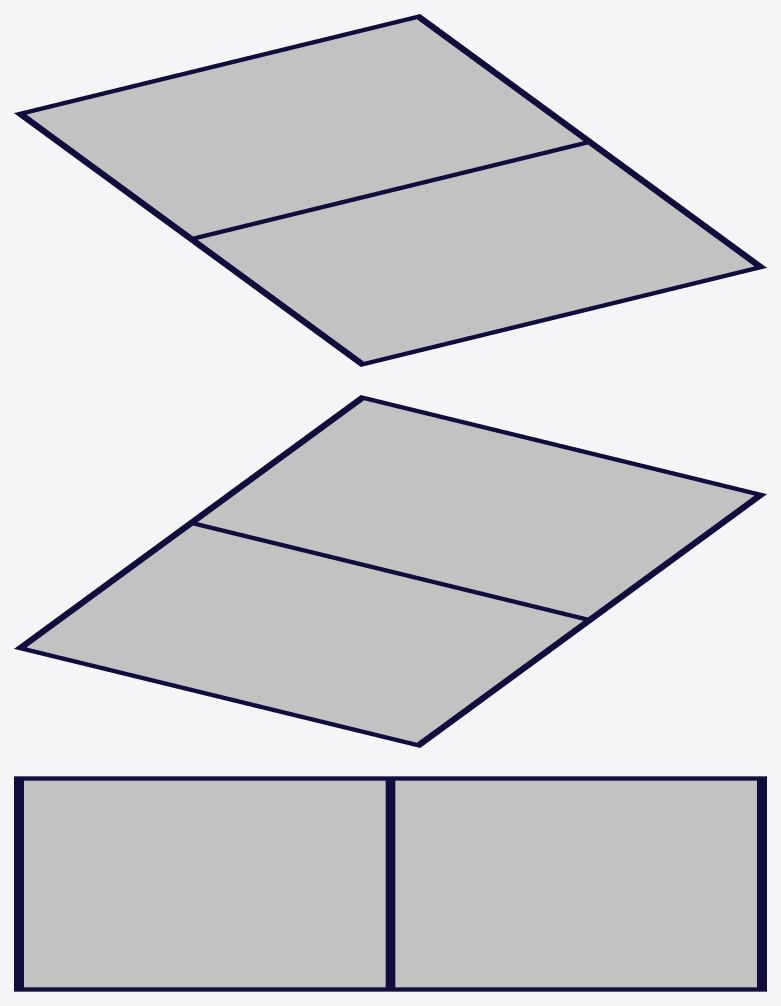
The model's file is TSSField.fbx.
3 renders of one model, top to bottom at view 1: azimuth 30°, elevation 25°; view 2: azimuth 150°, elevation 25°; view 3: azimuth 270°, elevation 25°, orthographic. The views are drawn at different scales.
Visible parts, largest first — view 1: Plane; view 2: Plane; view 3: Plane.
Part boxes in pixels (x1=…): Plane: x1=14, y1=14, x2=766, y2=366; Plane: x1=14, y1=395, x2=766, y2=747; Plane: x1=14, y1=776, x2=766, y2=991.
Bounding box in the file's own units: 2570 × 0.000844 × 3800.
